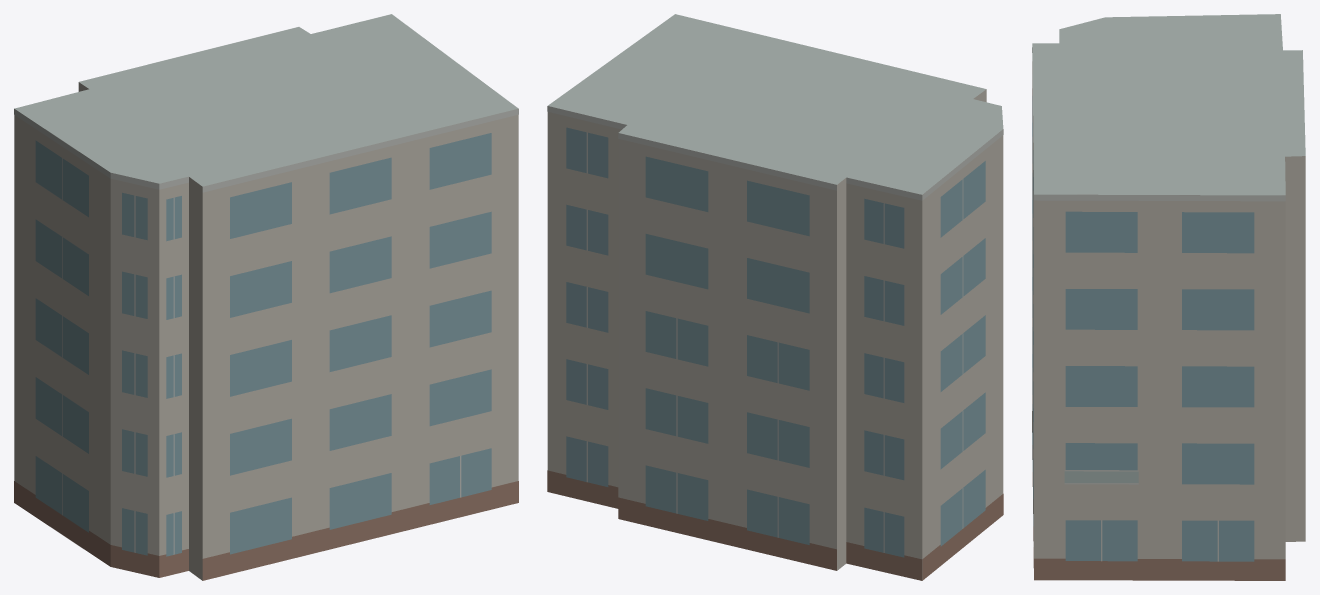
The model's file is survey-upis-32874611.glb.
3 views of the same model, side by side, from view 1: azimuth 30°, elevation 25°; view 2: azimuth 150°, elevation 25°; view 3: azimuth 270°, elevation 25° (orthographic). The views are drawn at different scales.
Visible parts, largest first — view 1: survey-upis-32874611.tmp; view 2: survey-upis-32874611.tmp; view 3: survey-upis-32874611.tmp.
Boxes of the visible parts, bbox=[...] form: survey-upis-32874611.tmp: bbox=[14, 14, 518, 580]; survey-upis-32874611.tmp: bbox=[547, 14, 1003, 580]; survey-upis-32874611.tmp: bbox=[1032, 14, 1305, 580].
Size of the model in its own units: 16.11 by 15.95 by 10.27.
